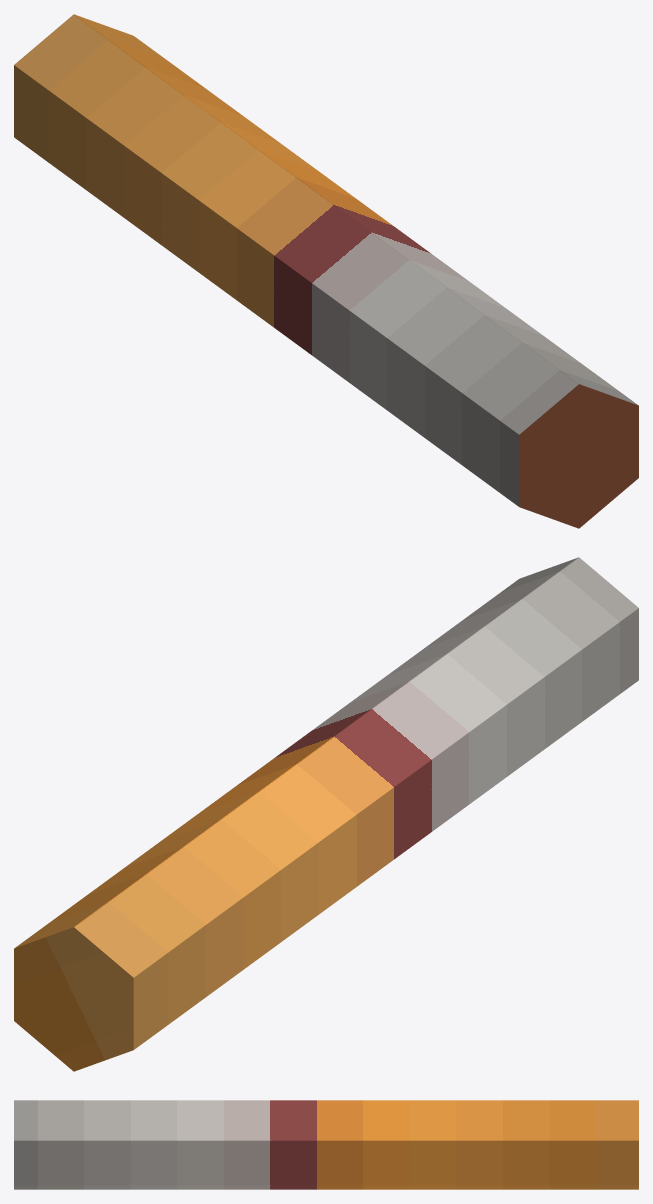
The model's file is Cigarette2.fbx.
3 views of the same model, one above another, from view 1: azimuth 30°, elevation 25°; view 2: azimuth 150°, elevation 25°; view 3: azimuth 270°, elevation 25° (orthographic). The views are drawn at different scales.
Parts seen in each view (by area): view 1: Cigarette2; view 2: Cigarette2; view 3: Cigarette2.
Boxes of the visible parts, <box> form: Cigarette2: <box>14,14,638,528</box>; Cigarette2: <box>14,557,638,1071</box>; Cigarette2: <box>14,1100,638,1189</box>.
Size of the model in its own units: 0.00557 by 0.00644 by 0.0407.
Materials: 1 (1 with a texture image).
